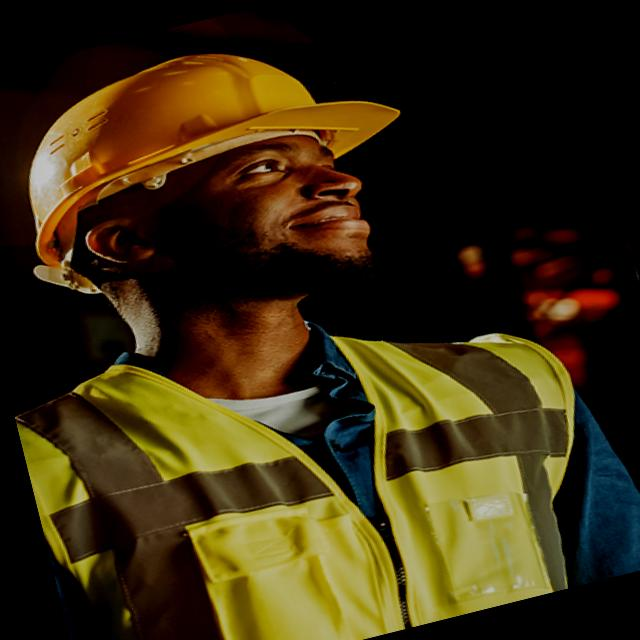helmet: (0, 0, 417, 271)
no-goggles: (85, 122, 372, 247)
vest: (7, 254, 624, 640)
